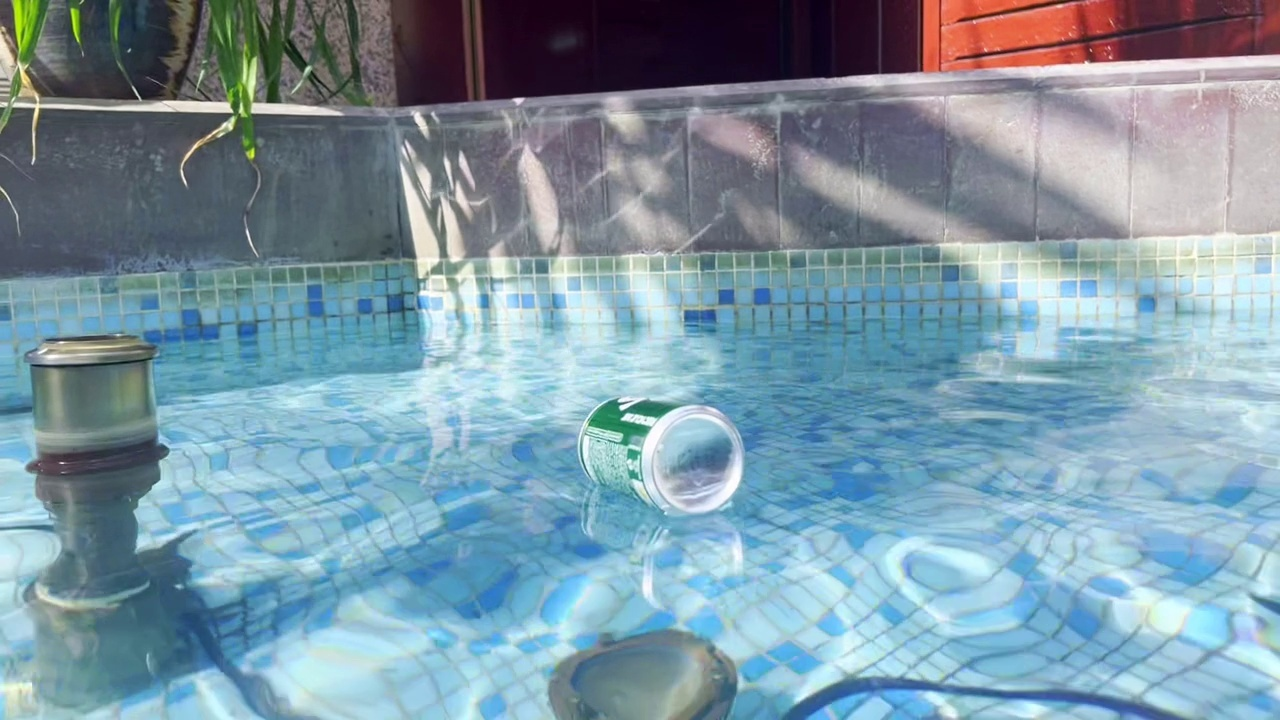debris: (566, 384, 750, 524)
